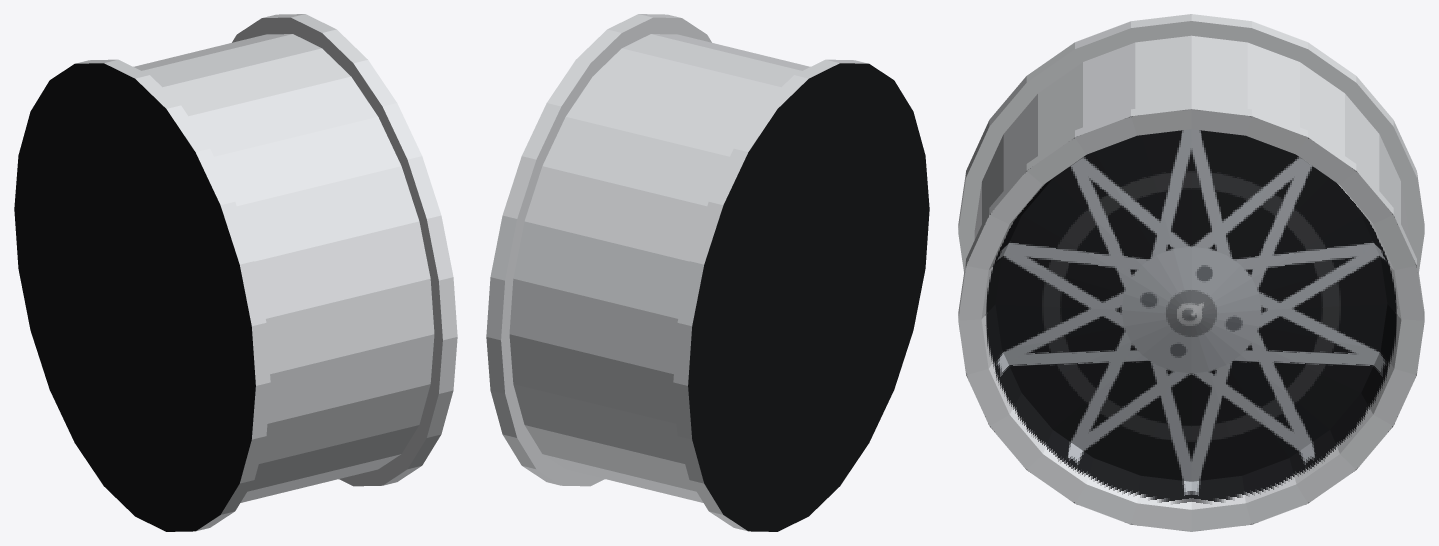
Rendered from quebramola_malha_14.glb.
3 views of the same model, side by side, from view 1: azimuth 30°, elevation 25°; view 2: azimuth 150°, elevation 25°; view 3: azimuth 270°, elevation 25° (orthographic). The views are drawn at different scales.
Visible parts, largest first — view 1: quebramola_malha_14; view 2: quebramola_malha_14; view 3: quebramola_malha_14.
Boxes of the visible parts, x1,y1,x2,y2 form: quebramola_malha_14: (14,14,457,531); quebramola_malha_14: (486,14,929,531); quebramola_malha_14: (958,14,1424,531).
Bounding box in the file's own units: 0.192 × 0.3983 × 0.3983.
1 material, 1 textured.
